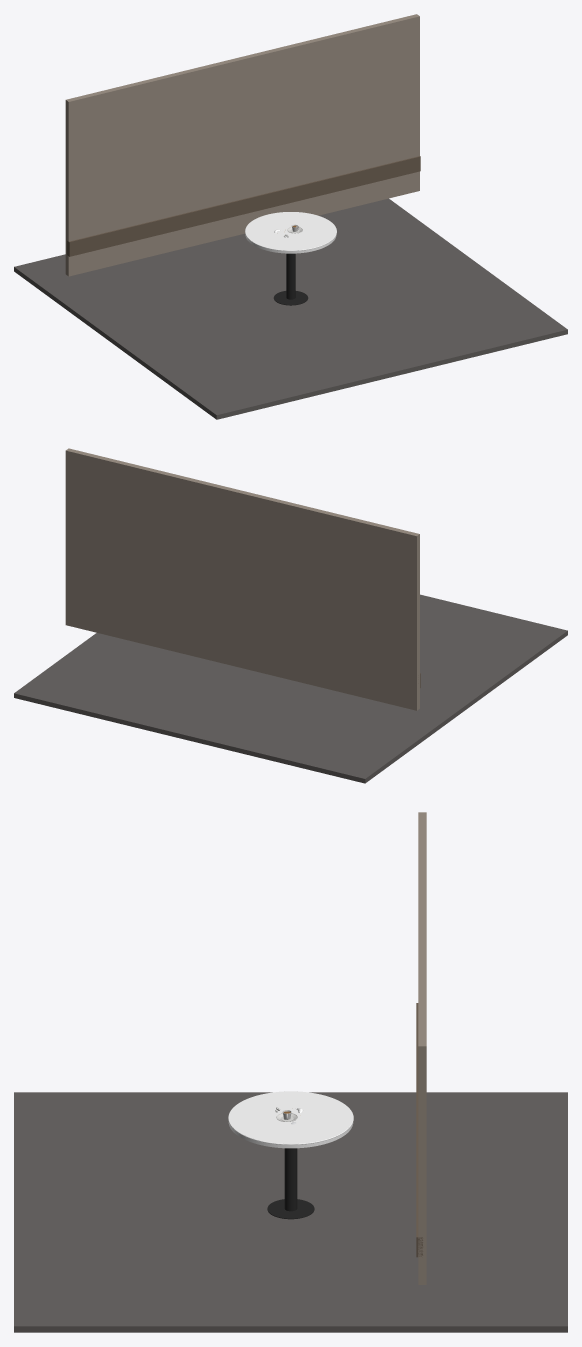
3 views of the same model, one above another, from view 1: azimuth 30°, elevation 25°; view 2: azimuth 150°, elevation 25°; view 3: azimuth 270°, elevation 25° (orthographic). The views are drawn at different scales.
Parts seen in each view (by area): view 1: Floor, Wall, WallTrim, TableTop; view 2: Wall, Floor; view 3: Floor, TableTop, Wall, TablePedestal, WallTrim, TableFoot.
Part boxes in pixels (left/top/right/bottom): Floor: left=14, top=198, right=567, bottom=419; Wall: left=65, top=14, right=419, bottom=276; WallTrim: left=67, top=156, right=420, bottom=256; TableTop: left=245, top=212, right=336, bottom=253; Wall: left=65, top=448, right=419, bottom=710; Floor: left=14, top=594, right=567, bottom=783; Floor: left=14, top=1092, right=567, bottom=1332; TableTop: left=228, top=1091, right=353, bottom=1148; Wall: left=418, top=812, right=426, bottom=1284; TablePedestal: left=284, top=1148, right=297, bottom=1211; WallTrim: left=416, top=1003, right=422, bottom=1257; TableFoot: left=267, top=1199, right=314, bottom=1219.
Size of the model in its own units: 4 by 2.28 by 4.
